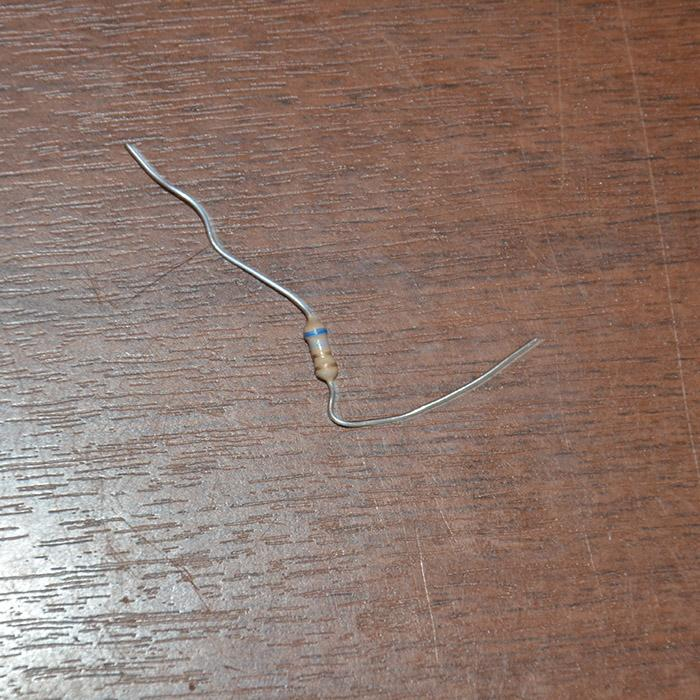resistor: (302, 316, 338, 384)
